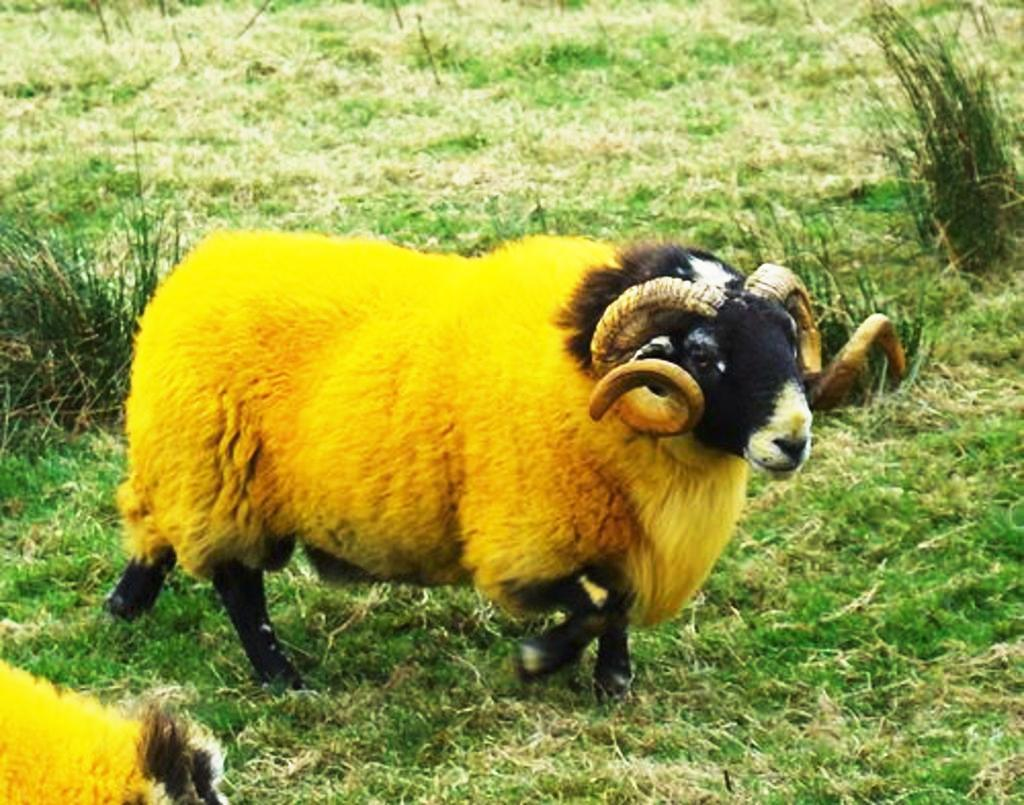Sheep: (110, 227, 906, 700), (0, 656, 227, 802)
